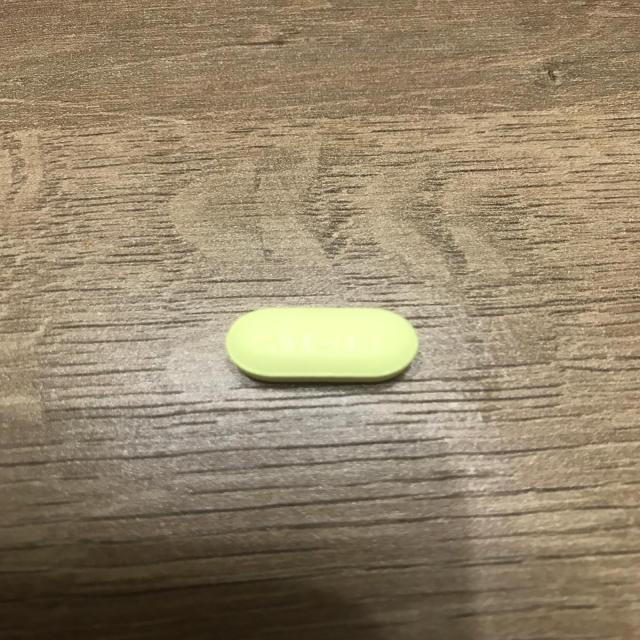pills: (203, 292, 438, 396)
